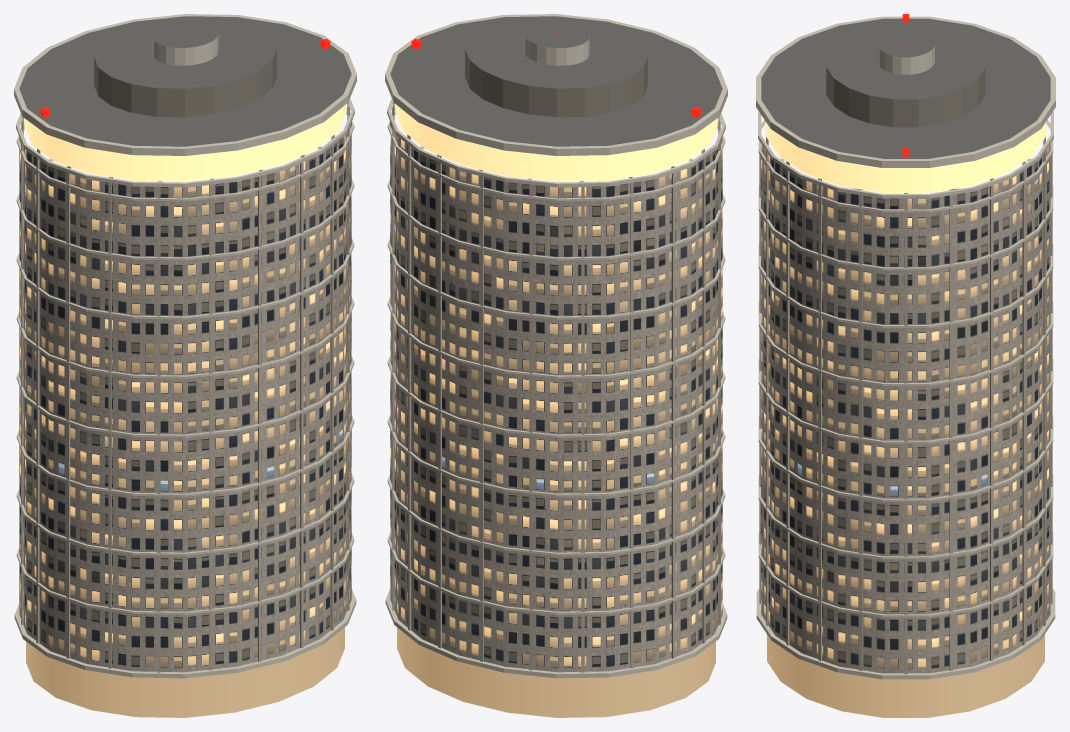
Rendered from prince_park_tower.glb.
The picture shows the model from 3 angles, left to right: view 1: azimuth 30°, elevation 25°; view 2: azimuth 150°, elevation 25°; view 3: azimuth 270°, elevation 25°; orthographic projection. The views are drawn at different scales.
Parts seen in each view (by area): view 1: prince_park_tower; view 2: prince_park_tower; view 3: prince_park_tower.
Boxes of the visible parts, box(x1,y1,x2,y2) form: prince_park_tower: box(14, 14, 356, 717); prince_park_tower: box(385, 14, 727, 717); prince_park_tower: box(756, 14, 1055, 717).
Size of the model in its own units: 53 by 104 by 46.5.
2 materials, 2 textured.
